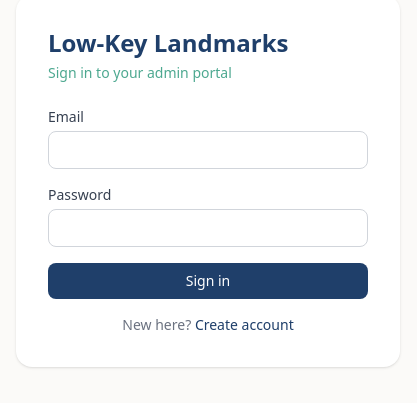
shows error message when signIn rejects
The image size is (417, 403).
Type "bad@example.com" into the field labelled "Email".
click(208, 150); type("bad@example.com")  # box [48,131,368,169]
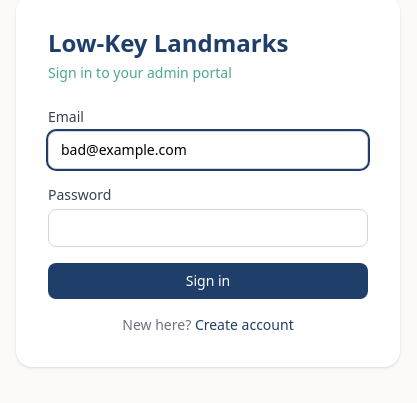
Type "wrongpass" into the password field labelled "Password".
click(208, 228); type("wrongpass")  # box [48,209,368,247]
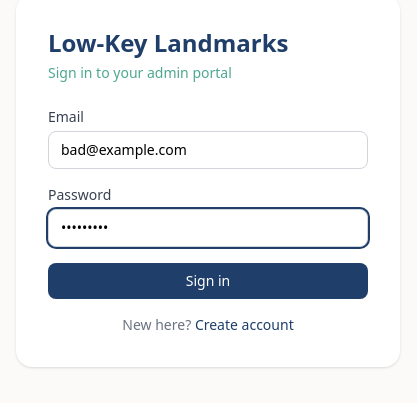
Click the button "Sign in".
click(208, 281)  # box [48,263,368,299]
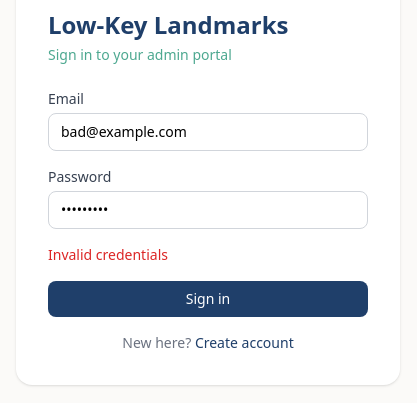
Now the text "Invalid credentials" is shown, box [48,245,168,264]
